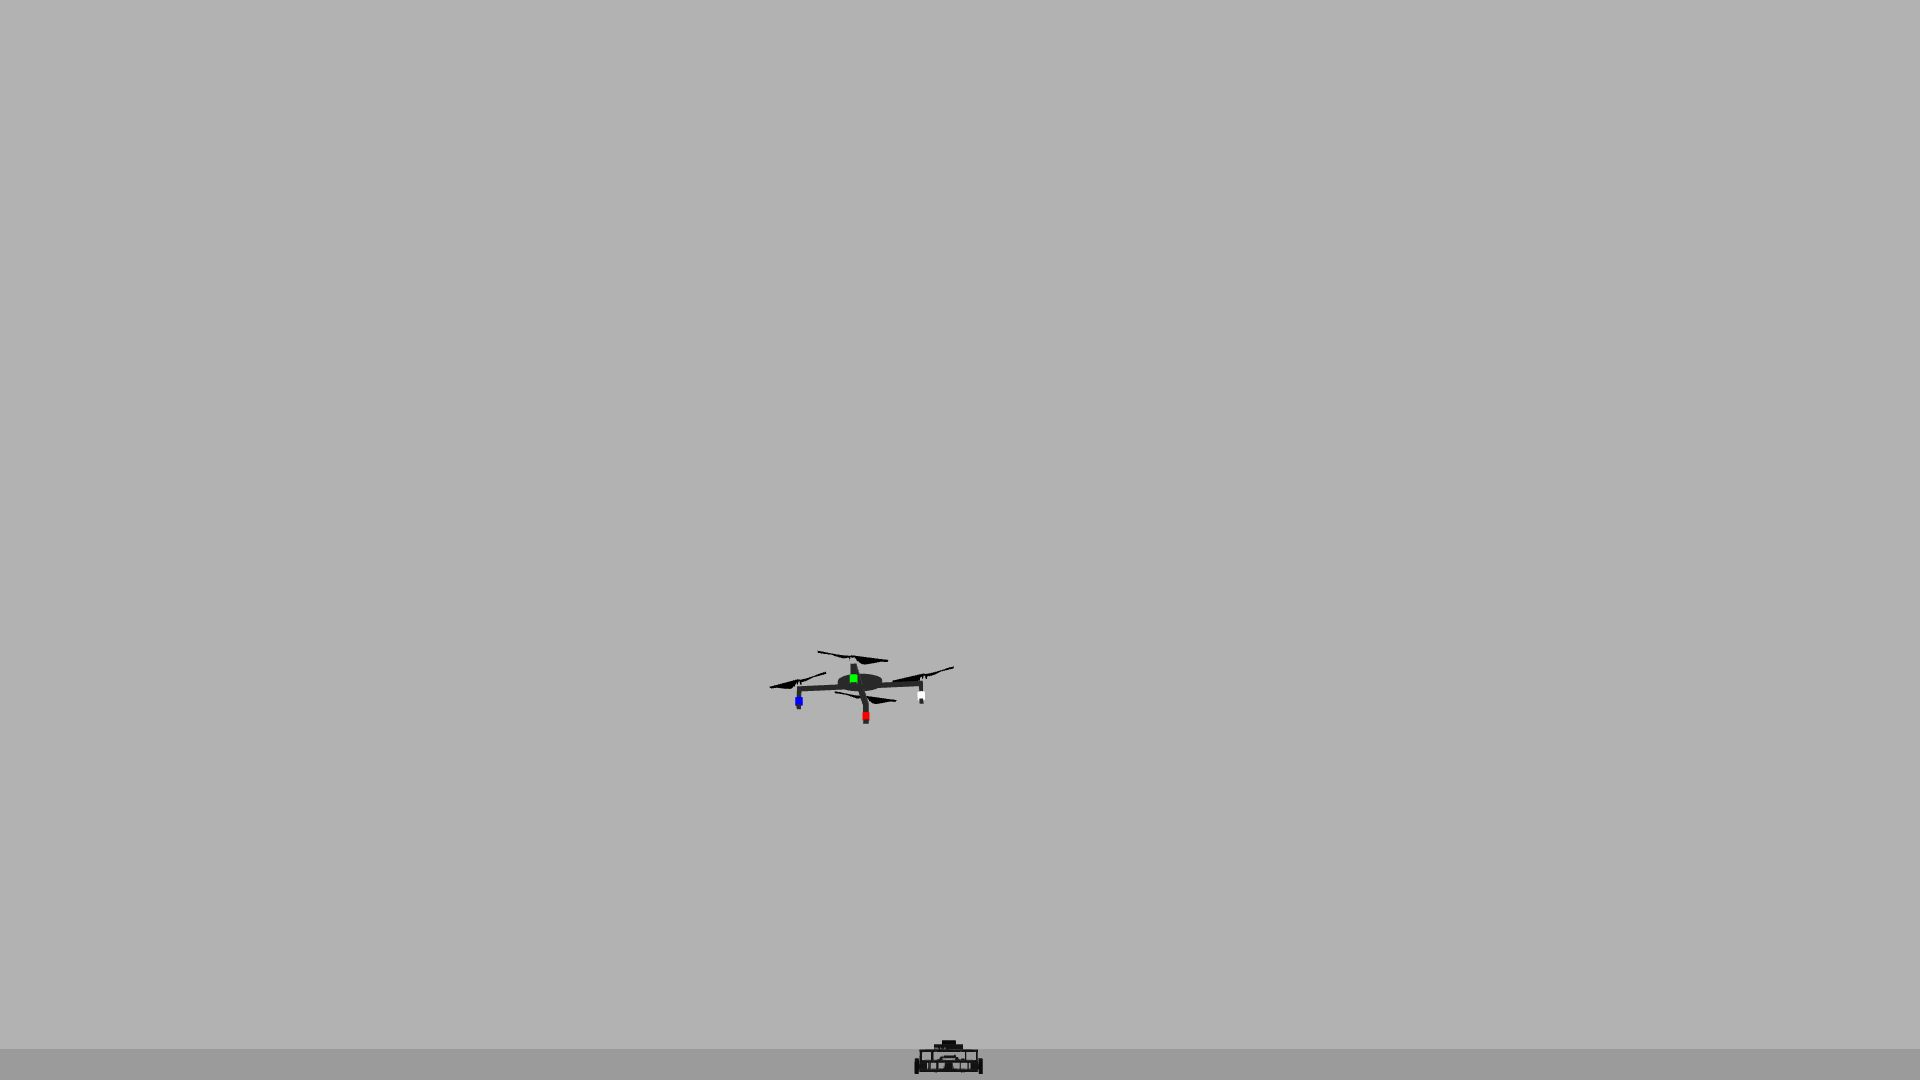drone: (758, 622, 960, 742)
